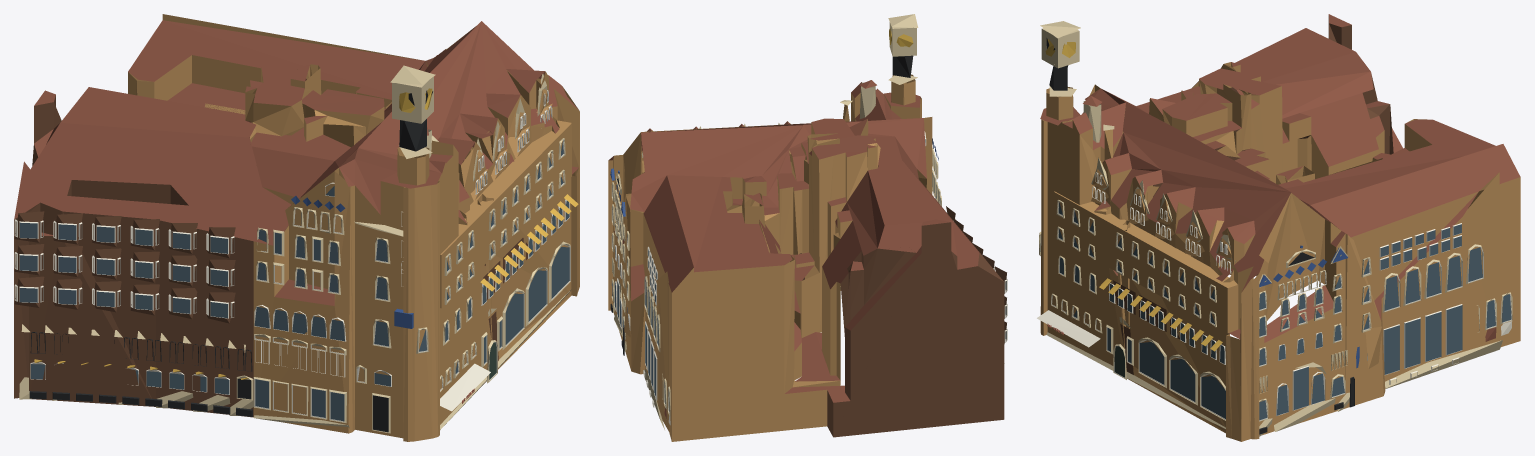
File: american-hotel.lod1.glb
The picture shows the model from 3 angles, left to right: view 1: azimuth 30°, elevation 25°; view 2: azimuth 150°, elevation 25°; view 3: azimuth 270°, elevation 25°; orthographic projection. The views are drawn at different scales.
Visible parts, largest first — view 1: american-hotel; view 2: american-hotel; view 3: american-hotel.
Boxes of the visible parts, x1,y1,x2,y2 form: american-hotel: [14, 14, 579, 441]; american-hotel: [608, 14, 1007, 441]; american-hotel: [1037, 14, 1520, 441].
Size of the model in its own units: 62.35 by 39.48 by 57.21.
